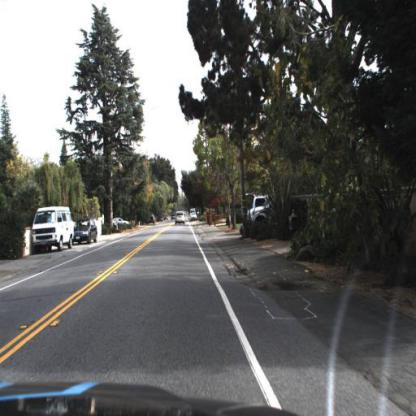car: (31, 202, 76, 260), (33, 206, 76, 252), (243, 187, 279, 227), (247, 196, 284, 234), (71, 217, 100, 248), (72, 218, 99, 245), (111, 214, 136, 235), (172, 208, 186, 228)
